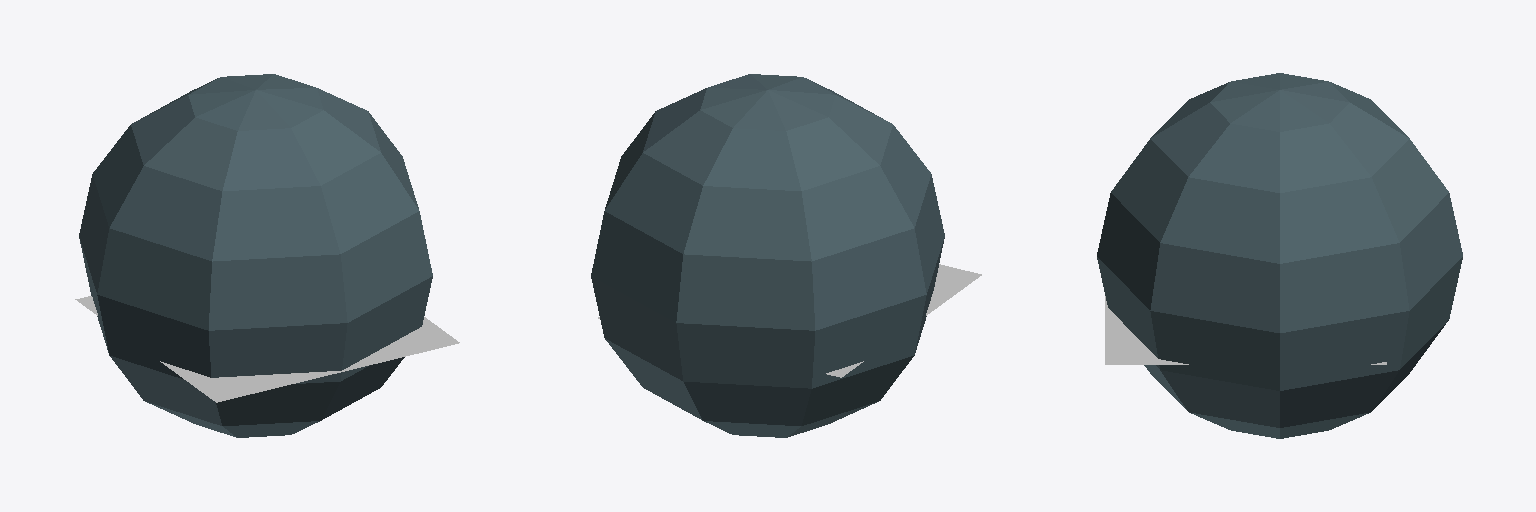
Rendered from campfire_undone.obj.
3 views of the same model, side by side, from view 1: azimuth 30°, elevation 25°; view 2: azimuth 150°, elevation 25°; view 3: azimuth 270°, elevation 25° (orthographic).
Parts seen in each view (by area): view 1: Sphere.002_Sphere.003, Plane; view 2: Sphere.002_Sphere.003, Plane; view 3: Sphere.002_Sphere.003, Plane.
Boxes of the visible parts, x1,y1,x2,y2 form: Sphere.002_Sphere.003: [79, 74, 432, 437]; Plane: [75, 296, 459, 402]; Sphere.002_Sphere.003: [591, 74, 944, 437]; Plane: [598, 264, 981, 377]; Sphere.002_Sphere.003: [1097, 73, 1462, 438]; Plane: [1105, 296, 1386, 364].
Bounding box in the file's own units: 481 × 481 × 481.